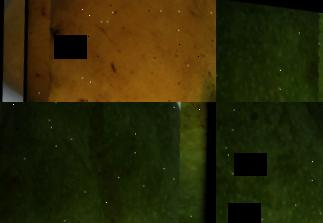Ripe: (15, 0, 216, 102)
Unripe: (0, 102, 216, 223), (216, 102, 323, 223), (216, 0, 323, 102)
